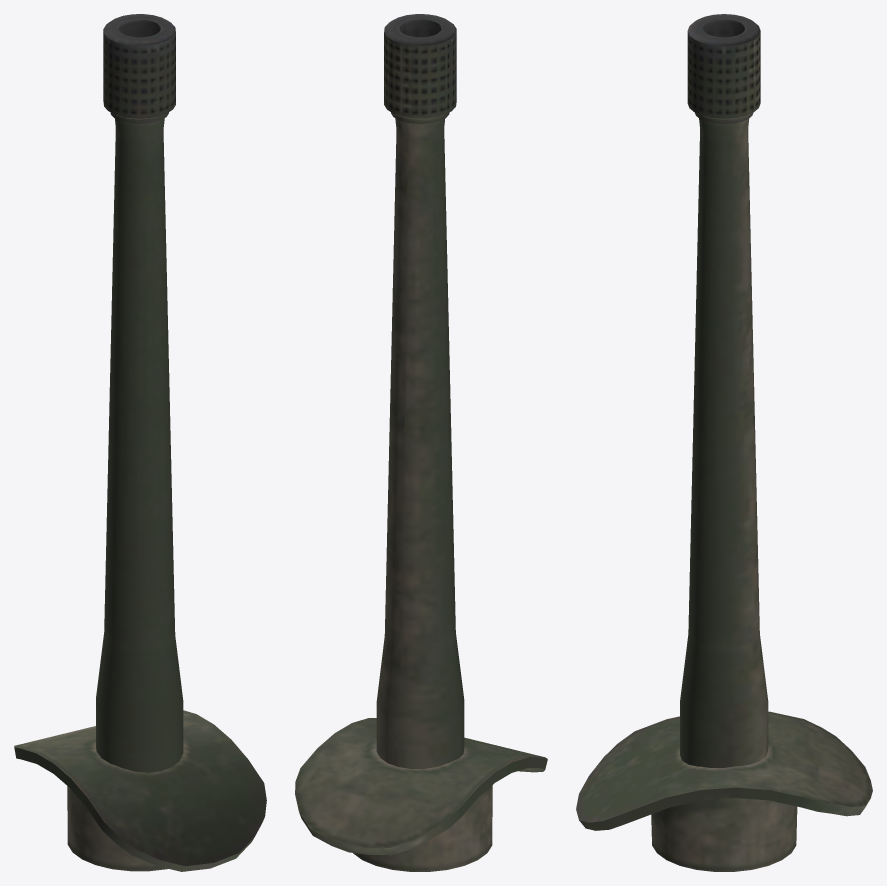
File: Gun_04.glb
3 renders of one model, left to right at view 1: azimuth 30°, elevation 25°; view 2: azimuth 150°, elevation 25°; view 3: azimuth 270°, elevation 25°, orthographic.
Parts seen in each view (by area): view 1: set_0_group_0; view 2: set_0_group_0; view 3: set_0_group_0.
Part boxes in pixels (bbox=[...]): set_0_group_0: bbox=[14, 14, 266, 871]; set_0_group_0: bbox=[295, 14, 547, 871]; set_0_group_0: bbox=[576, 14, 872, 871].
Size of the model in its own units: 0.2368 by 1.15 by 0.3795.
Materials: 1 (1 with a texture image).
